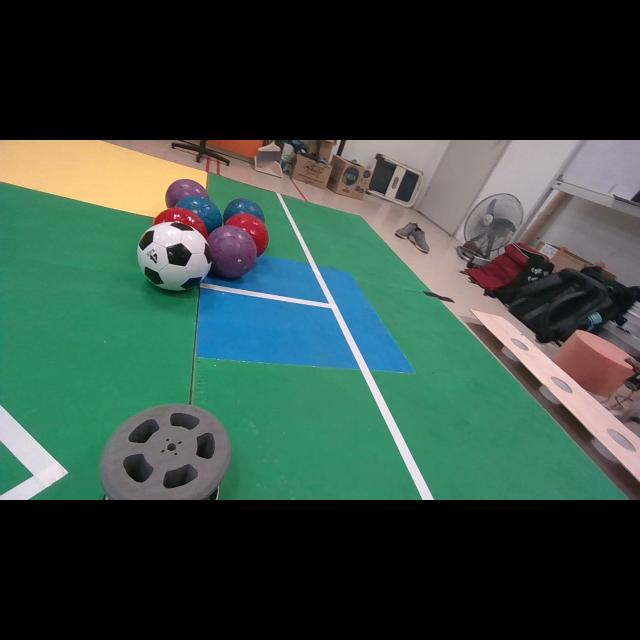B: (175, 196, 222, 233), (222, 199, 265, 223)
P: (206, 225, 256, 279), (165, 180, 209, 208)
R: (225, 214, 269, 256), (152, 209, 209, 238)
